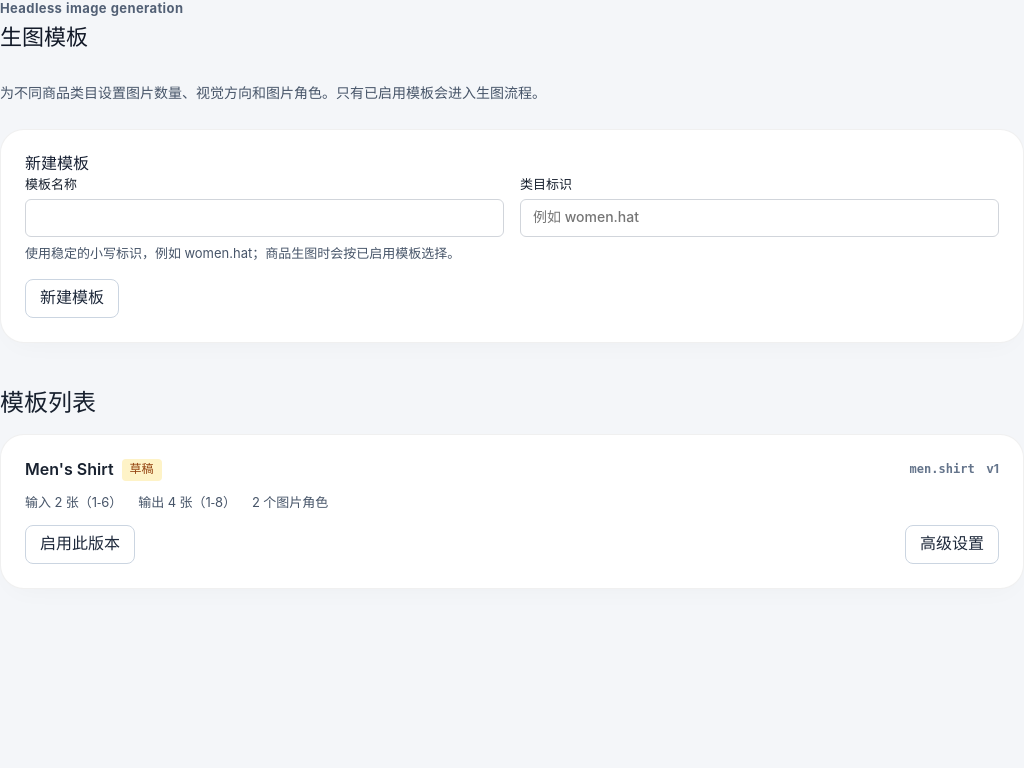
it: ImageGenerationTemplateManager › requires an explicit sample product before prompt testing
The width and height of the screenshot is (1024, 768).
Click the button "高级设置". click: (952, 544)
box: [905,525,999,564]
(page scrolled)
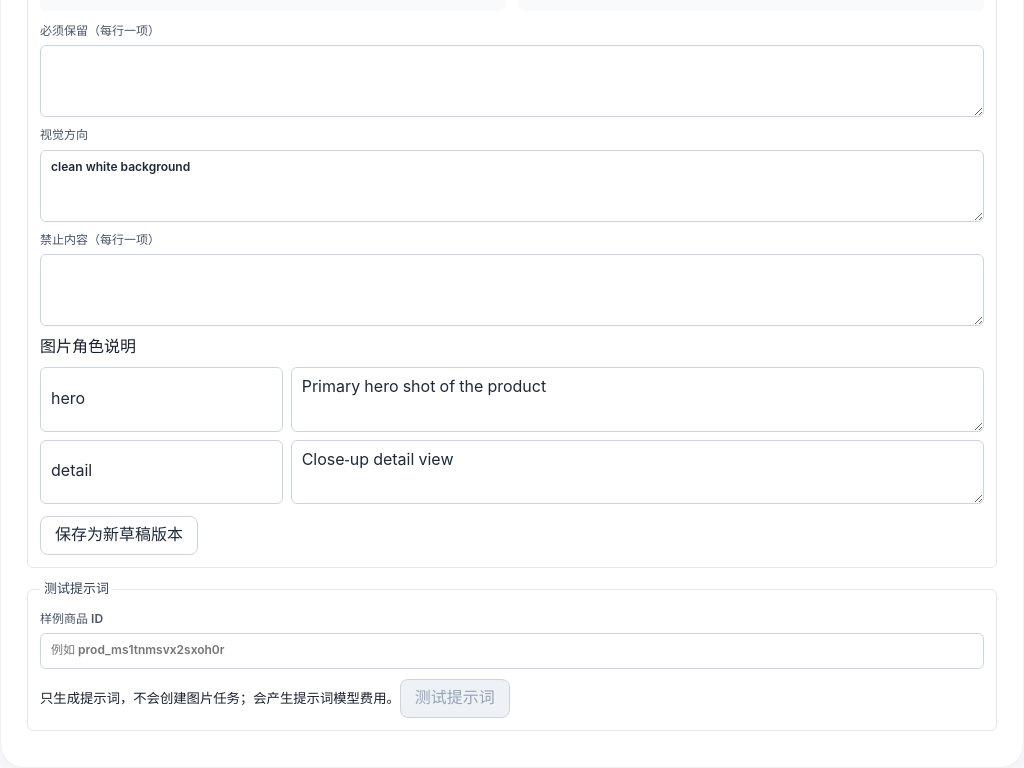
Check: the button "测试提示词" is disabled, box [400,679,510,718]
